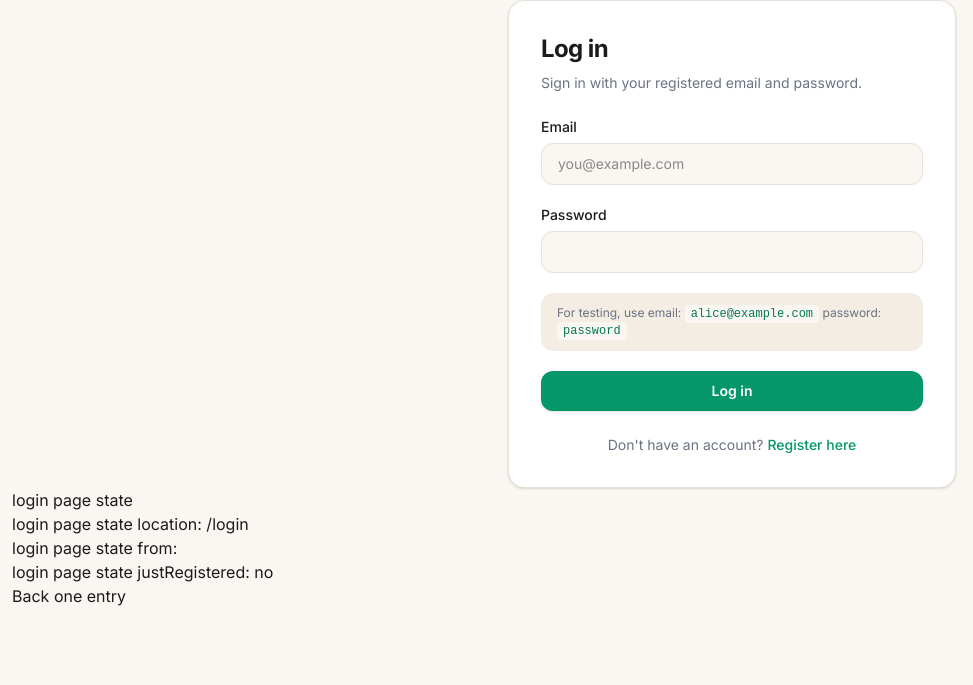
shows the suspension message on a 403 response
Type "suspended@example.com" into the field labelled "Email".
click(732, 164); type("suspended@example.com")  # box [541,143,923,185]
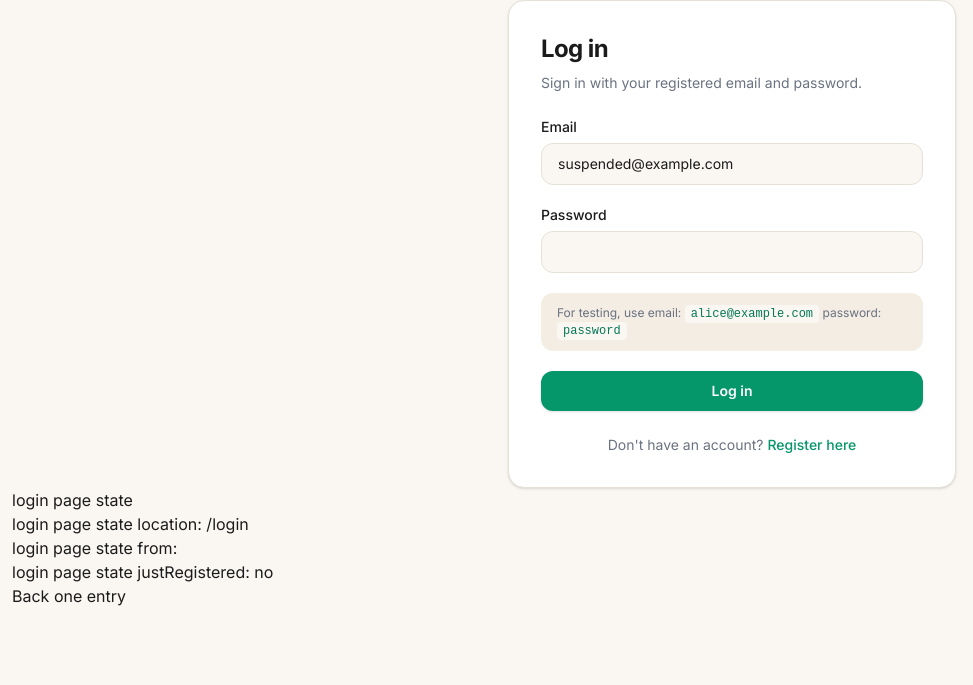
Type "password" into the password field labelled "Password".
click(732, 252); type("password")  # box [541,231,923,273]
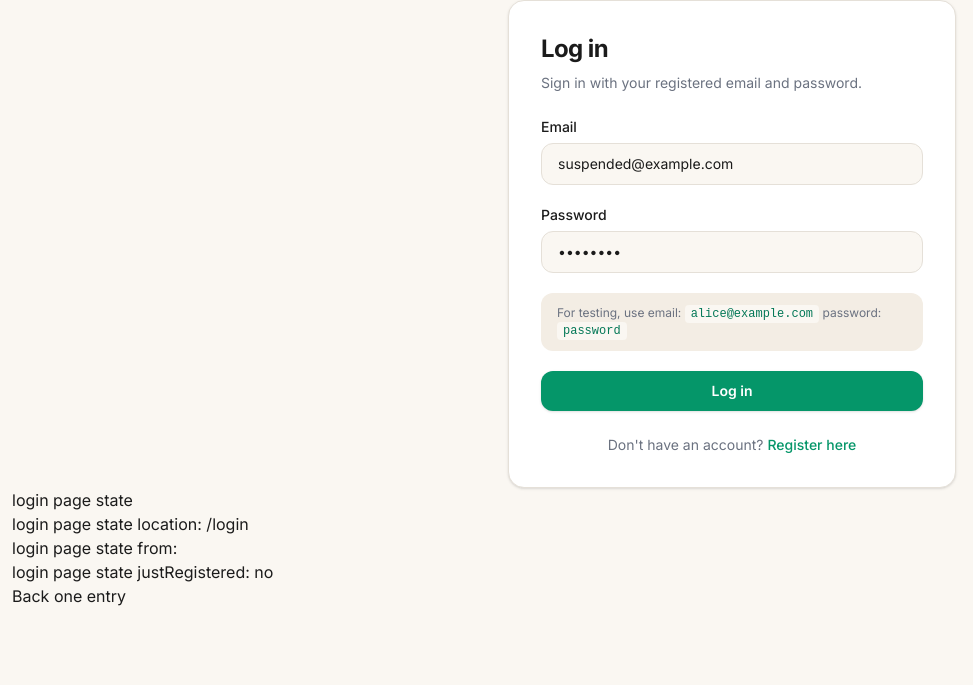
Click the button "Log in".
click(732, 391)  # box [541,371,923,411]
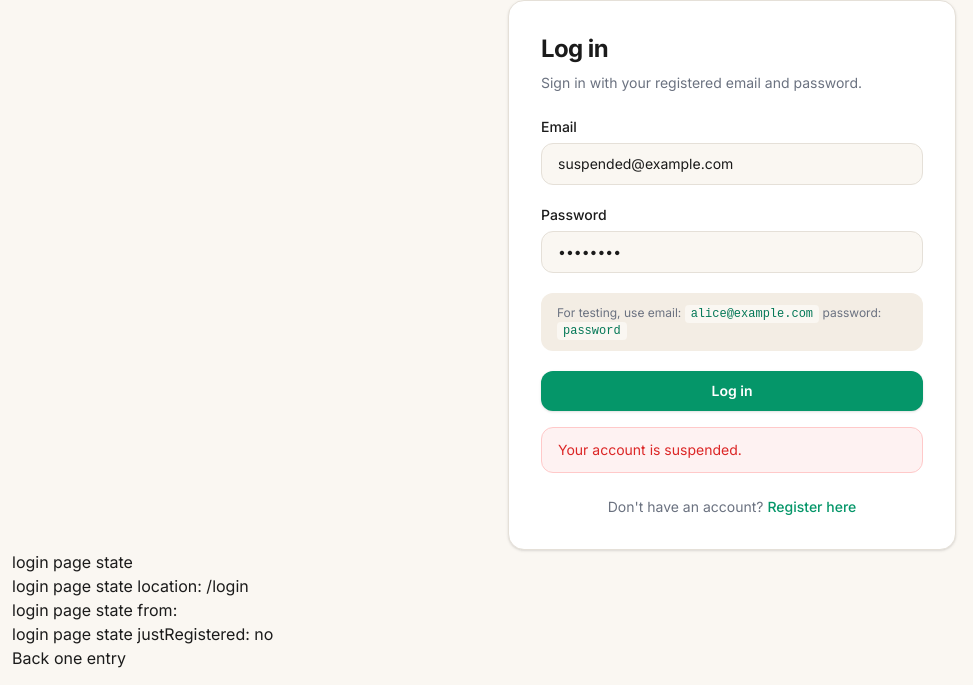
expect the message reads "Your account is suspended.": met, box [558,441,742,458]
